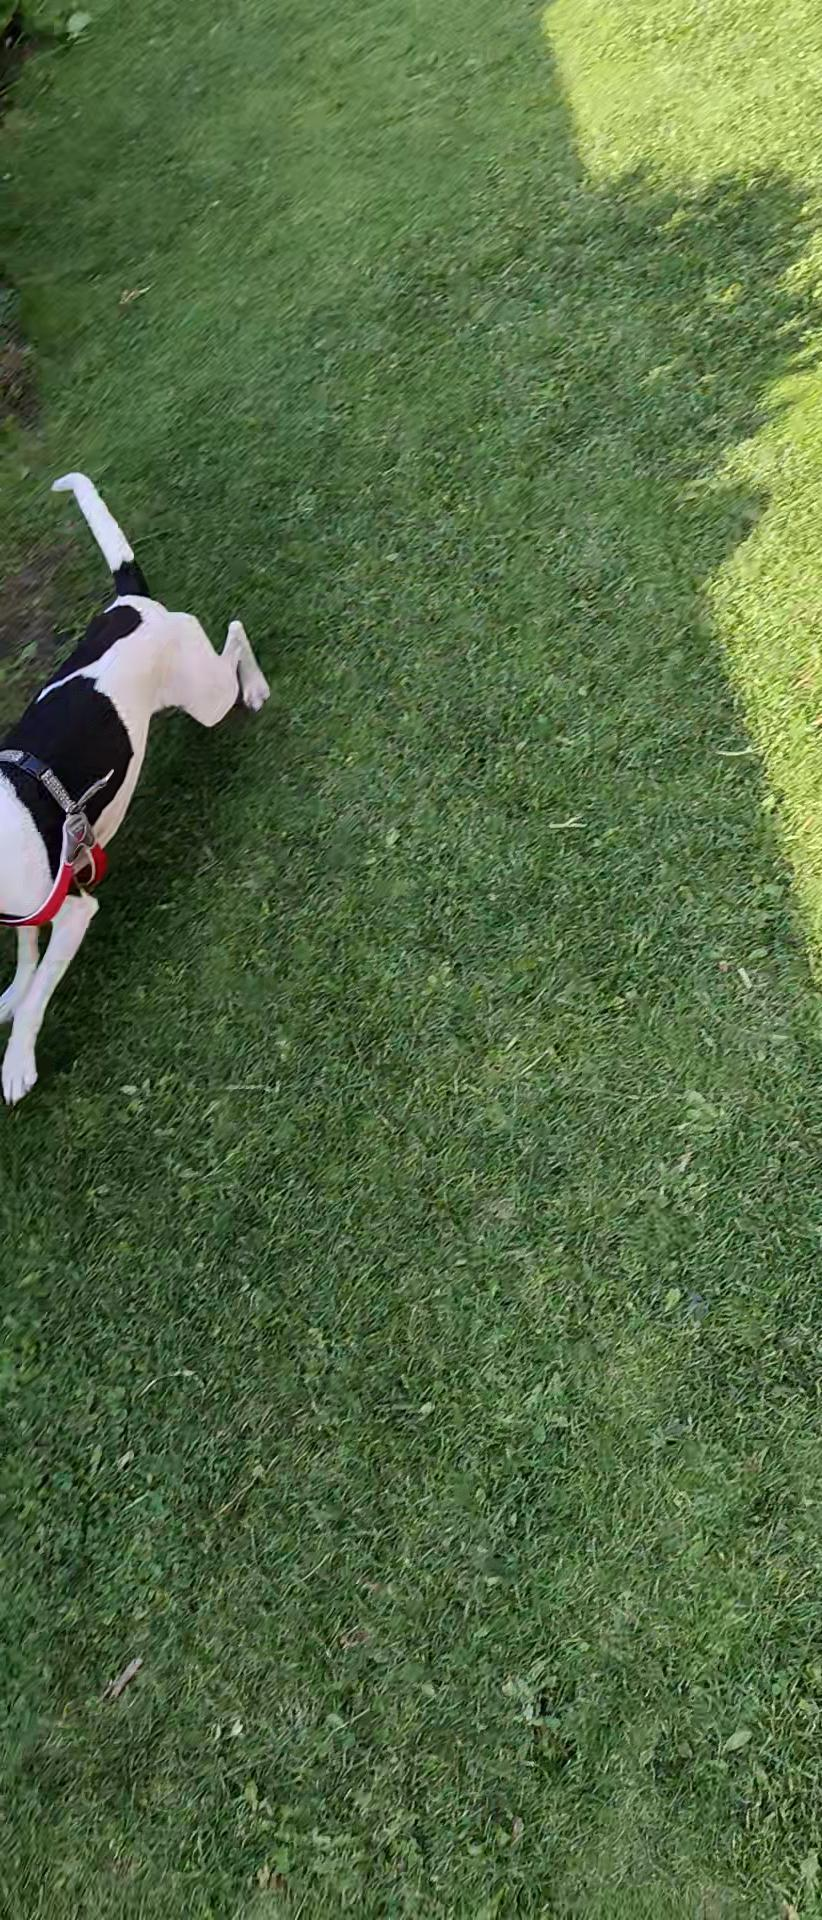Dog: (0, 451, 285, 1111)
